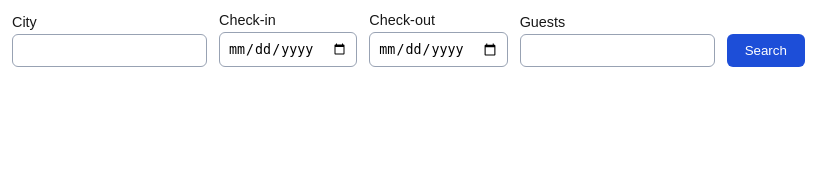
Test: SearchForm › does not search when check-out is not after check-in (EC1)
The image size is (823, 172).
Type "Hanoi" into the field labelled "City" at (110, 51), box [12,34,207,67]
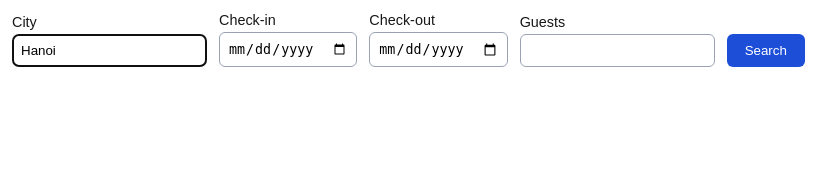
Type "2026-12-03" into the date field labelled "Check-in" at (288, 50), box [219,32,357,67]
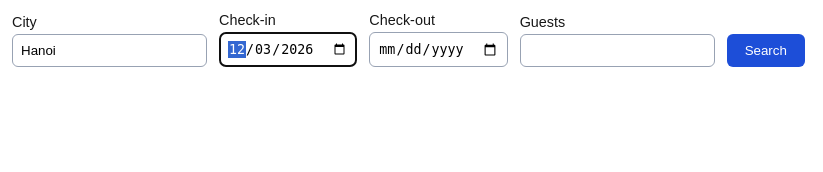
Type "2026-12-03" into the date field labelled "Check-out" at (438, 50), box [369,32,508,67]
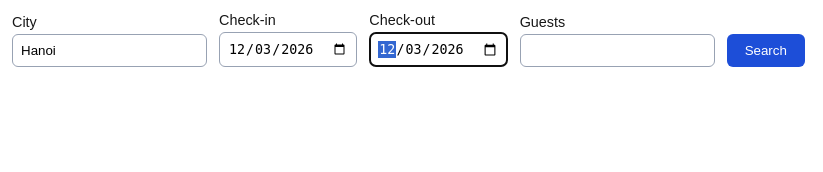
Type "2" into the field labelled "Guests" at (617, 51), box [520,34,715,67]
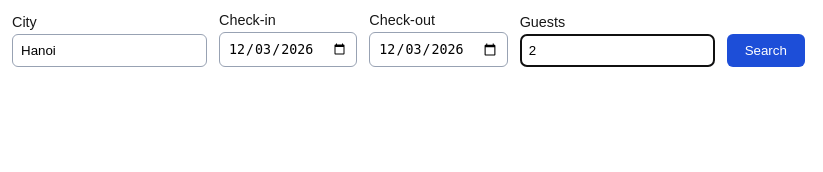
Click the button "Search" at (766, 51), box [727,34,805,67]
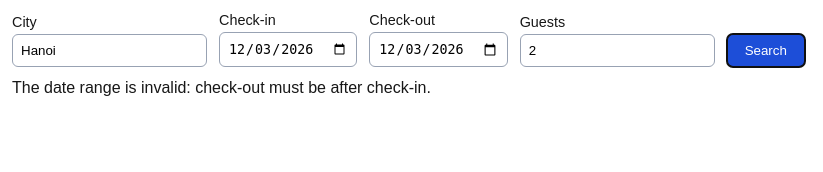
Check: the message shows "date range is invalid", box [12,79,431,96]
